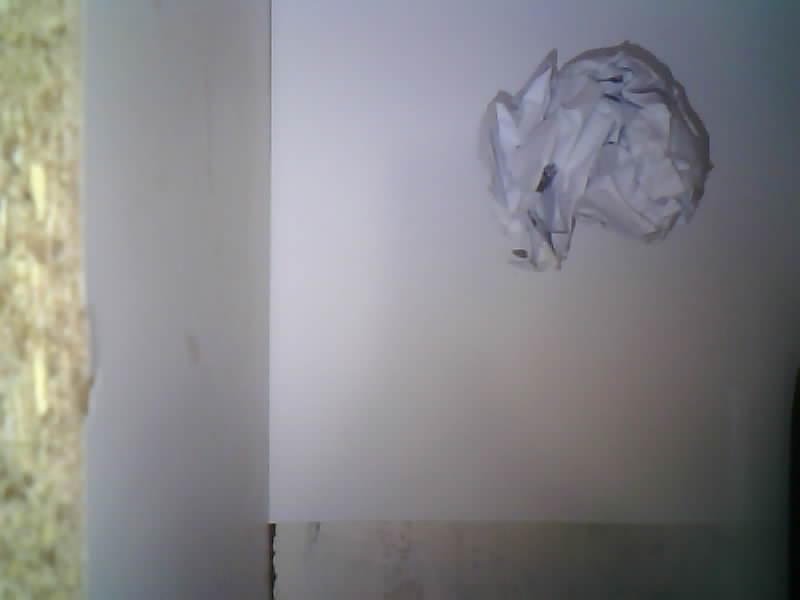biodegradable: (485, 42, 711, 269)
